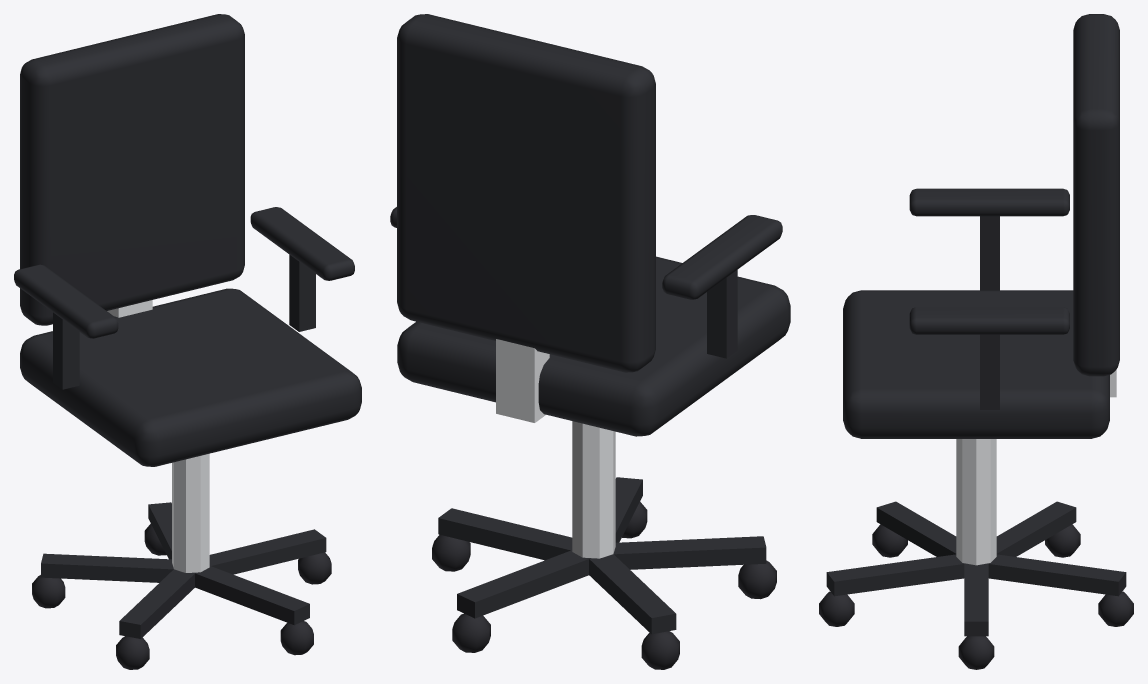
Rendered from OfficeChair.fbx.
3 renders of one model, left to right at view 1: azimuth 30°, elevation 25°; view 2: azimuth 150°, elevation 25°; view 3: azimuth 270°, elevation 25°, orthographic. The views are drawn at different scales.
Parts seen in each view (by area): view 1: OfficeChair; view 2: OfficeChair; view 3: OfficeChair.
Part boxes in pixels (left/top/right/bottom): OfficeChair: left=14, top=14, right=361, bottom=669; OfficeChair: left=390, top=14, right=790, bottom=669; OfficeChair: left=819, top=14, right=1133, bottom=669.
Bounding box in the file's own units: 2.42 × 4.5 × 2.36.
Materials: 1 (1 with a texture image).
